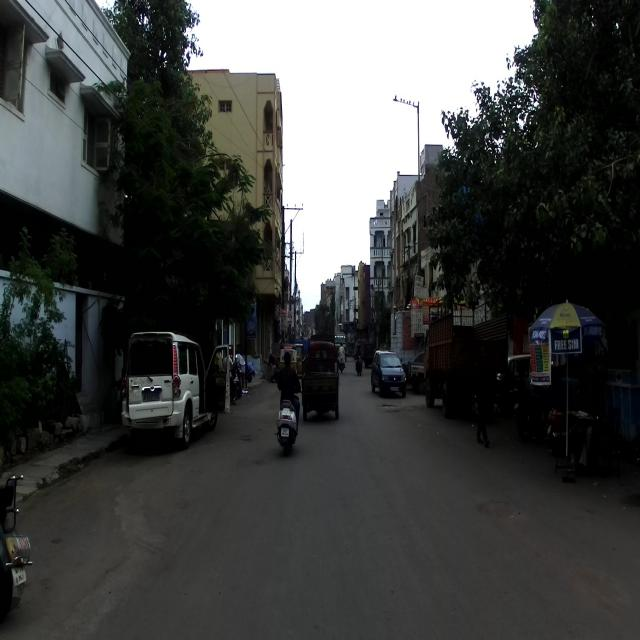car: (120, 333, 230, 450), (370, 346, 407, 398)
scooter: (274, 382, 302, 453)
truck: (421, 290, 511, 428)
